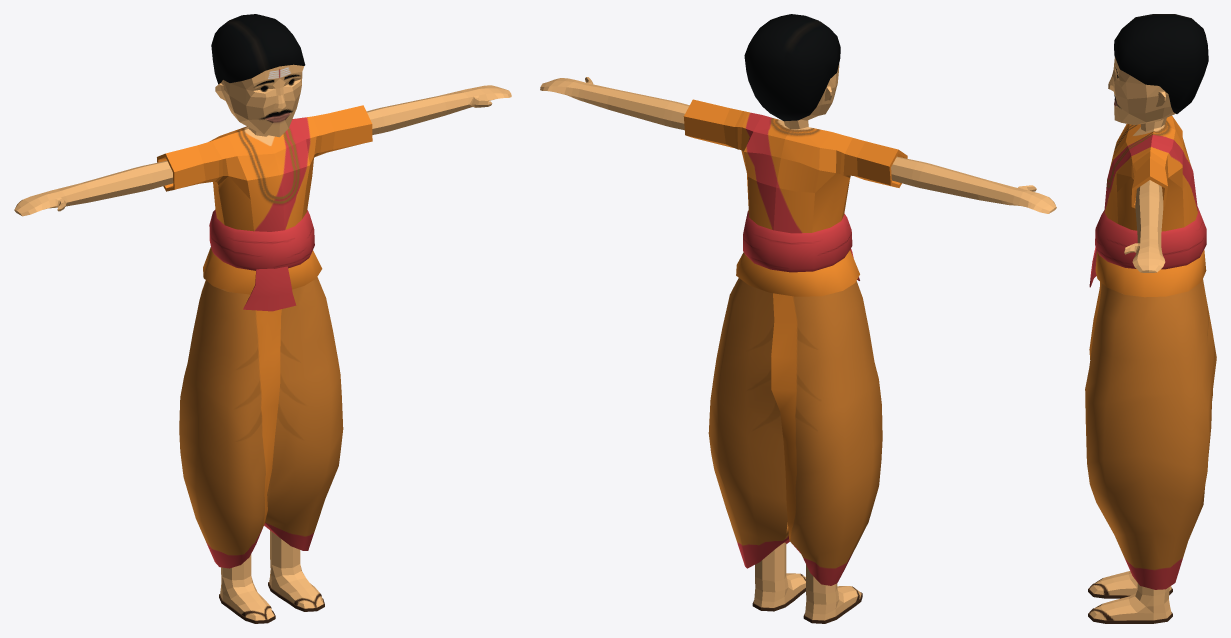
The model's file is delh_char_02.fbx.
3 renders of one model, left to right at view 1: azimuth 30°, elevation 25°; view 2: azimuth 150°, elevation 25°; view 3: azimuth 270°, elevation 25°, orthographic. The views are drawn at different scales.
Visible parts, largest first — view 1: delh_char_02; view 2: delh_char_02; view 3: delh_char_02.
Part boxes in pixels (x1,y1,x2,y2): delh_char_02: (14,14,511,623); delh_char_02: (540,14,1056,623); delh_char_02: (1085,14,1216,623).
Size of the model in its own units: 164 by 180 by 36.8.
